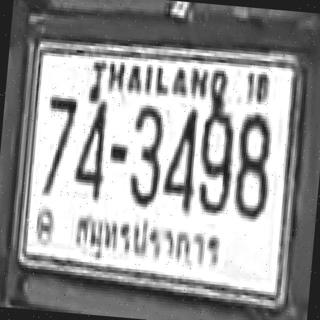N03: (127, 101, 164, 205)
N04: (161, 105, 198, 211), (71, 95, 108, 199)
N07: (40, 94, 76, 195)
N08: (232, 111, 272, 217)
N09: (195, 106, 235, 212)
P57: (68, 204, 225, 277)
